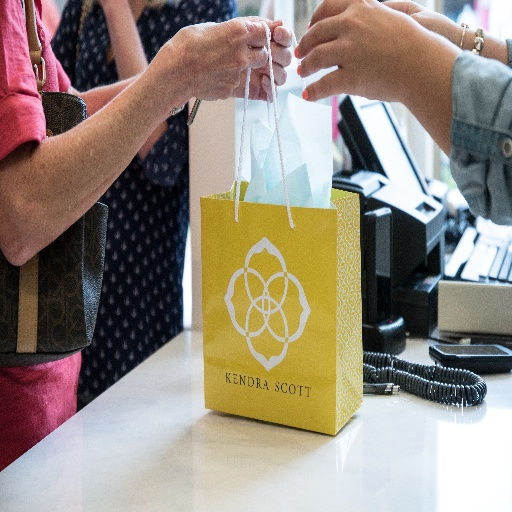hand: (299, 0, 489, 148), (157, 19, 270, 102), (226, 14, 294, 103), (381, 0, 463, 45)
